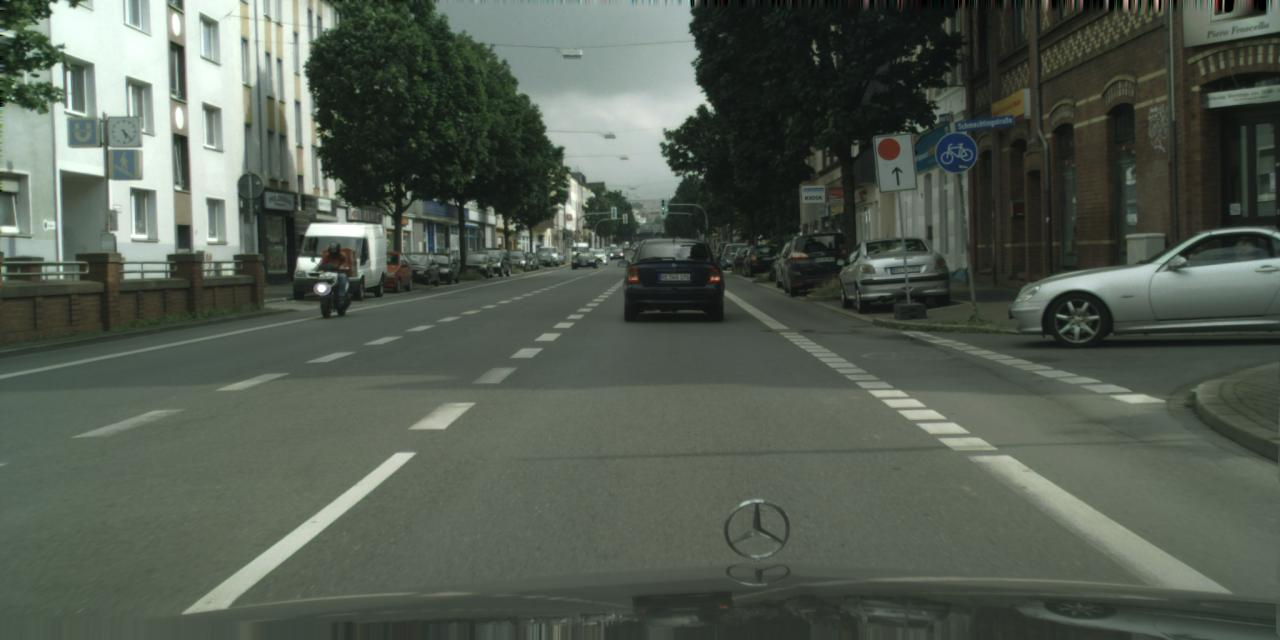ped: (318, 242, 341, 299)
